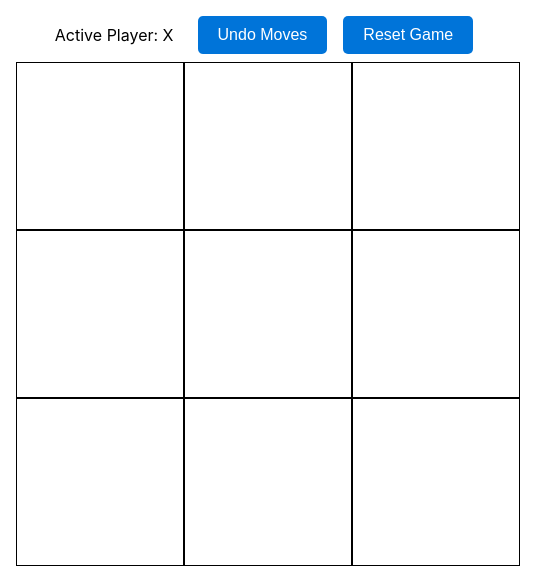
Test: Tic-Tac-Toe Game › resets the game
Step 1. Click the 1st element with test id "square" → (100, 146), box [16,62,184,230]
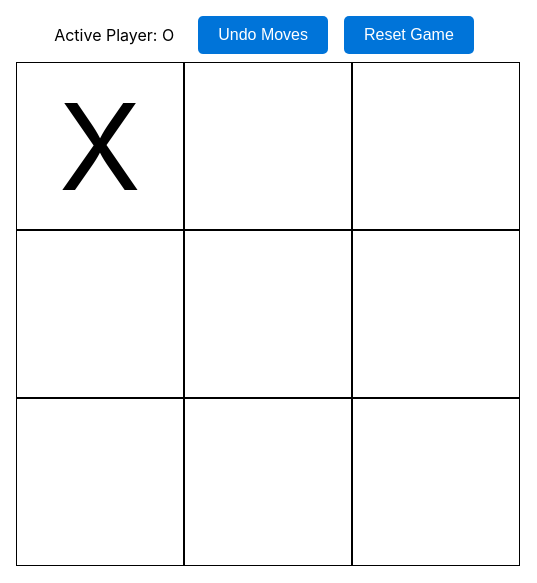
Step 2. Click the 2nd element with test id "square" → (268, 146), box [184,62,352,230]
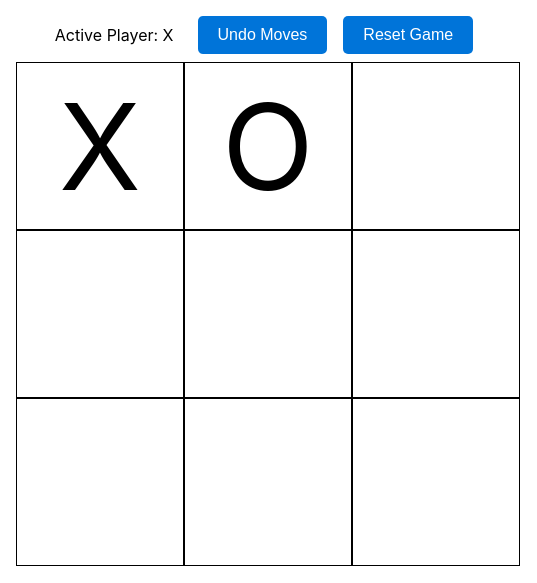
Step 3. Click the 7th element with test id "square" → (100, 482), box [16,398,184,566]
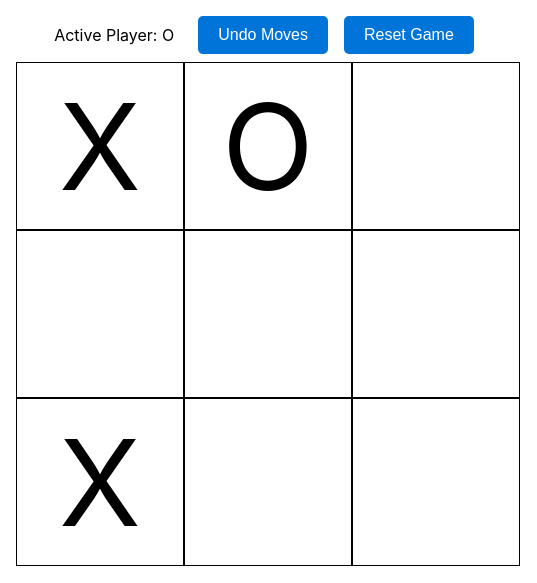
Step 4. Click the 8th element with test id "square" → (268, 482), box [184,398,352,566]
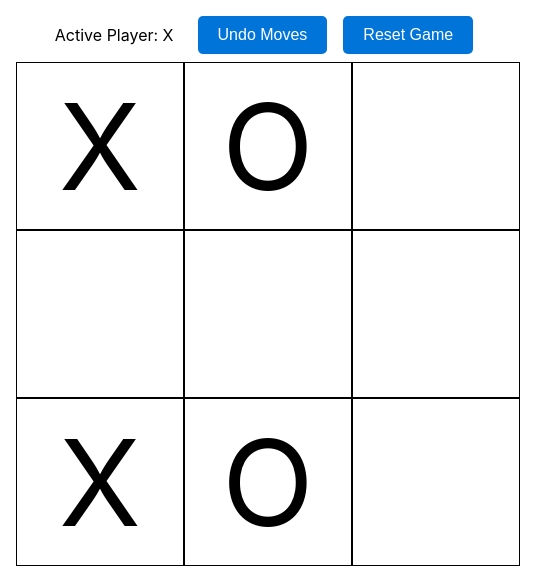
# Reset the game
Step 5. Click the button "Reset Game" → (408, 35), box [343,16,473,54]
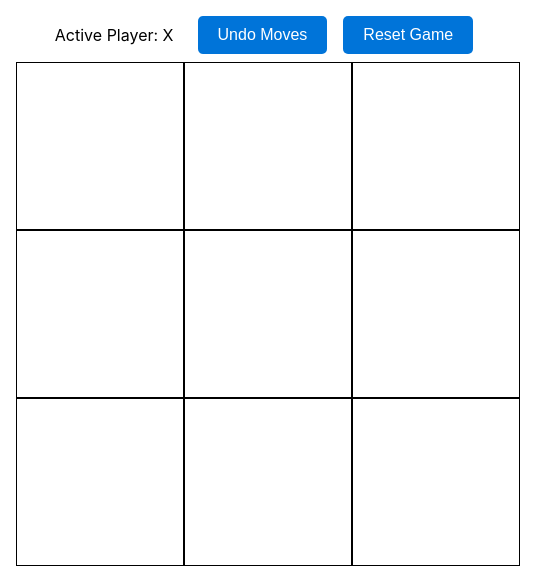
Check: the 1st element with test id "square" is empty, box [16,62,184,230]
Check: the 2nd element with test id "square" is empty, box [184,62,352,230]
Check: the 7th element with test id "square" is empty, box [16,398,184,566]
